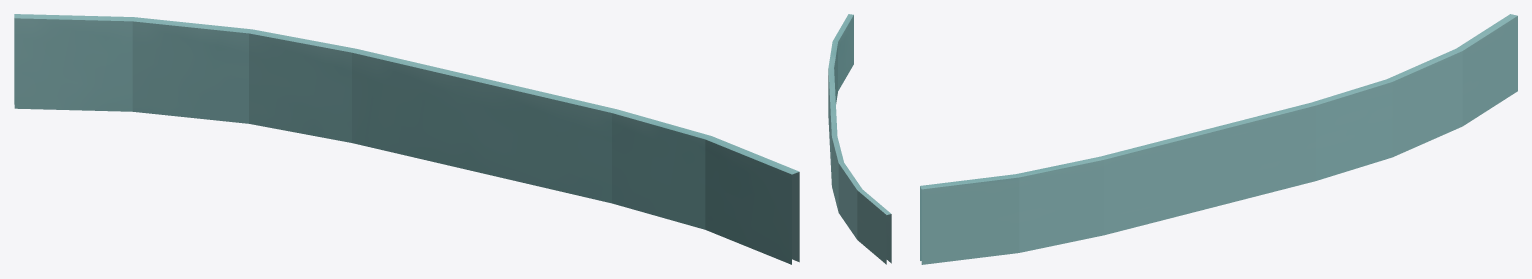
The model's file is structure_11.glb.
The picture shows the model from 3 angles, left to right: view 1: azimuth 30°, elevation 25°; view 2: azimuth 150°, elevation 25°; view 3: azimuth 270°, elevation 25°; orthographic projection. The views are drawn at different scales.
Parts seen in each view (by area): view 1: Structure.010; view 2: Structure.010; view 3: Structure.010.
Part boxes in pixels (bbox=[...]): Structure.010: bbox=[14, 14, 799, 264]; Structure.010: bbox=[828, 14, 891, 264]; Structure.010: bbox=[920, 14, 1517, 264].
Bounding box in the file's own units: 4.85 × 0.9746 × 6.99.
1 material, 1 textured.
